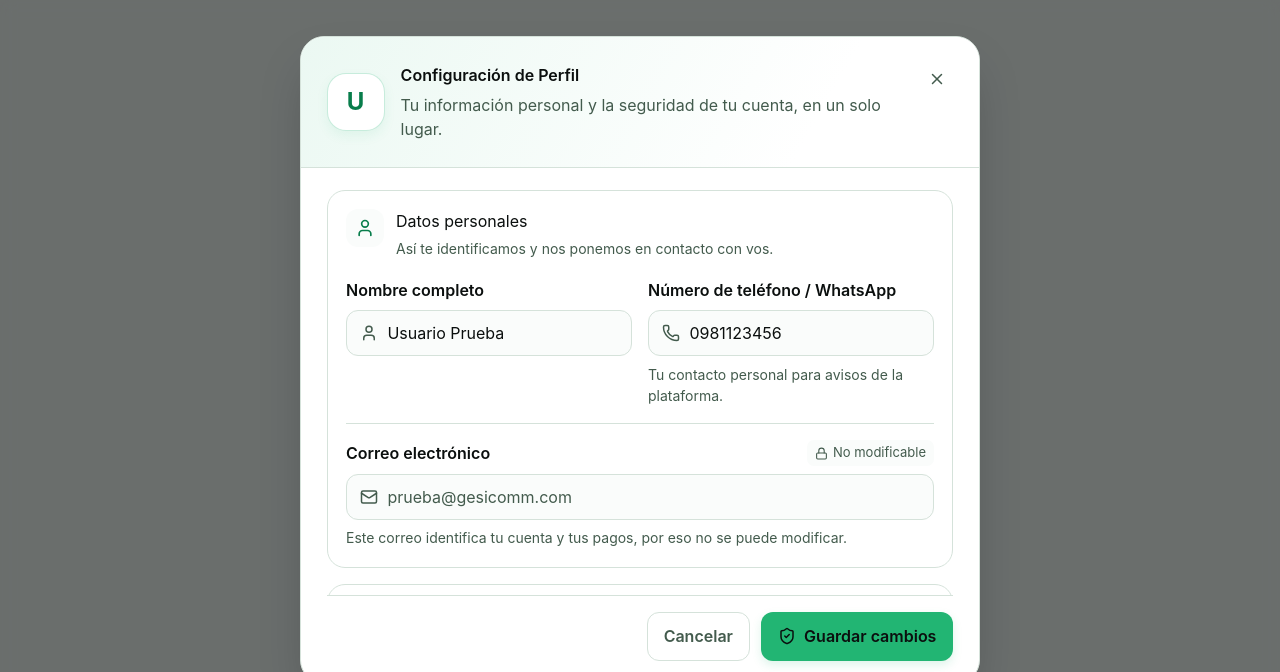
it: PerfilModal › permite modificar nombre y teléfono y avanza a la pantalla OTP
Replace the text in the field with placeholder "Ej. Juan Pérez" with "Nuevo Nombre": (503, 333) [387, 312, 618, 355]
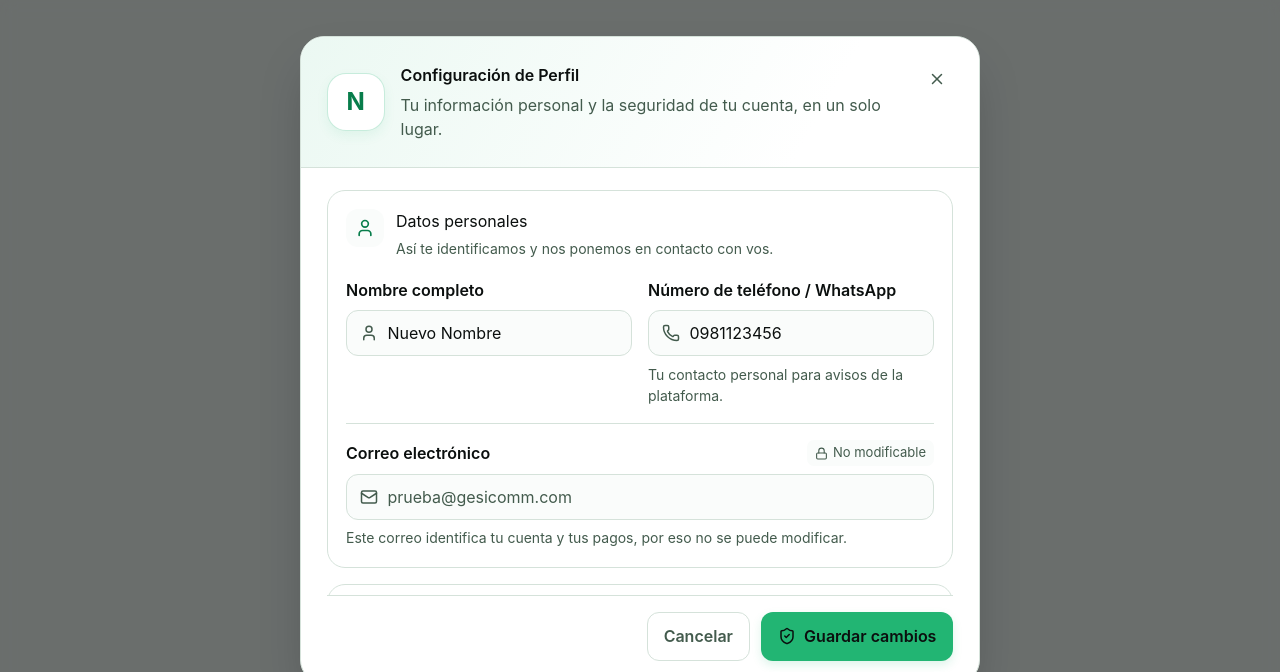
Click the button "Guardar cambios": click(857, 636) [761, 612, 953, 661]
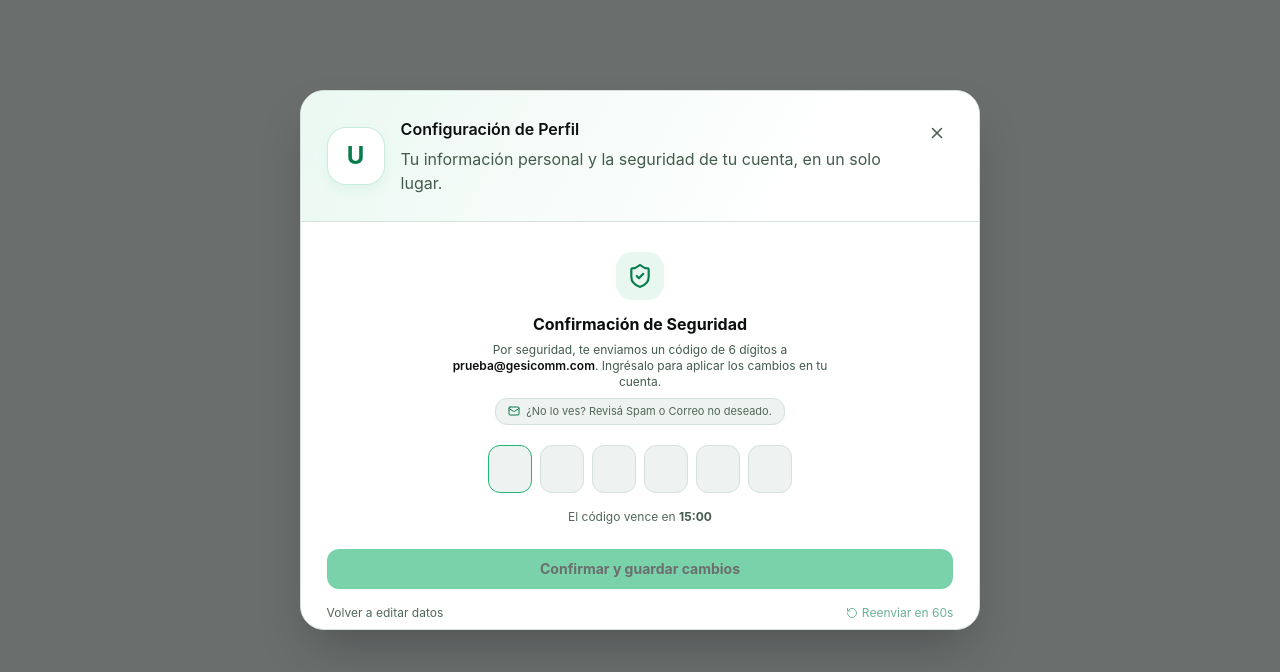
Check: the heading "Confirmación de Seguridad" is shown, box [533, 314, 747, 334]
Check: the text "prueba@gesicomm.com" is shown, box [453, 358, 595, 373]
